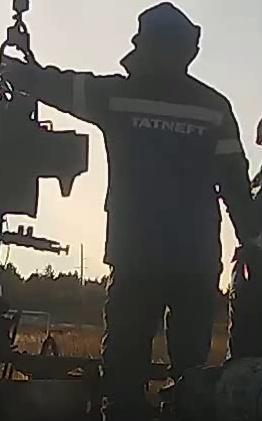vest: (73, 70, 254, 257)
